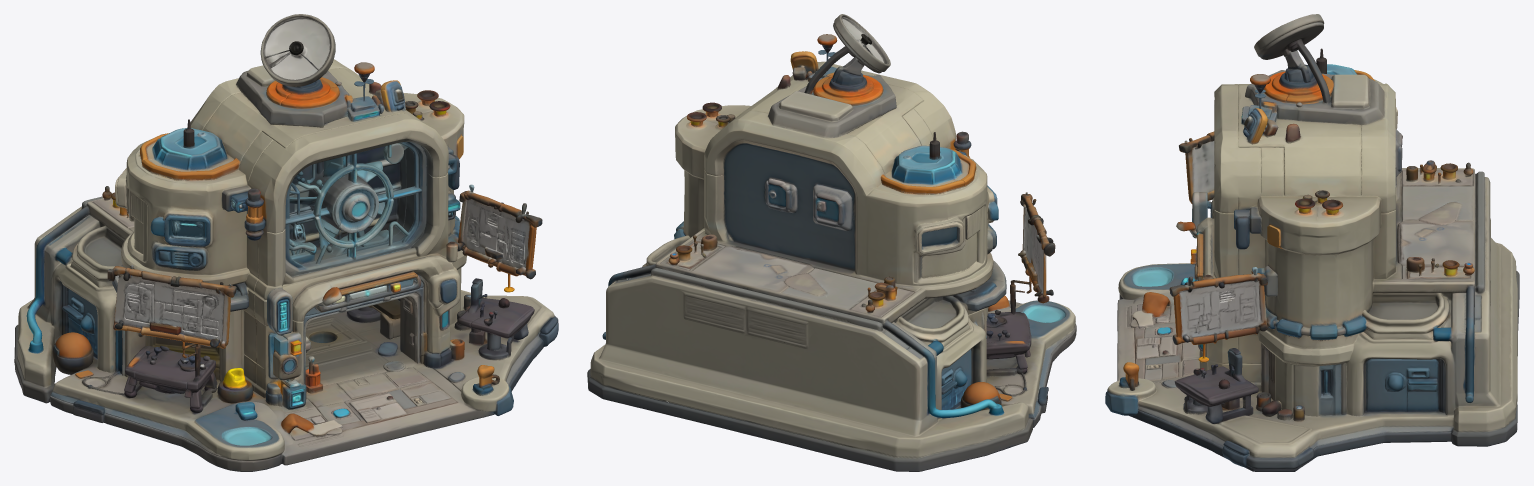
File: blueprint_lab.glb
3 renders of one model, left to right at view 1: azimuth 30°, elevation 25°; view 2: azimuth 150°, elevation 25°; view 3: azimuth 270°, elevation 25°, orthographic. The views are drawn at different scales.
Parts seen in each view (by area): view 1: FC_housing, FC_scanner; view 2: FC_housing, FC_scanner; view 3: FC_housing, FC_scanner.
Part boxes in pixels (left/top/right/bottom): FC_housing: left=14, top=59, right=558, bottom=471; FC_scanner: left=260, top=14, right=335, bottom=86; FC_housing: left=587, top=34, right=1076, bottom=471; FC_scanner: left=814, top=14, right=890, bottom=78; FC_housing: left=1105, top=48, right=1519, bottom=471; FC_scanner: left=1254, top=14, right=1324, bottom=81.
Size of the model in its own units: 0.9809 by 0.7091 by 0.7647.
Materials: 1 (1 with a texture image).
